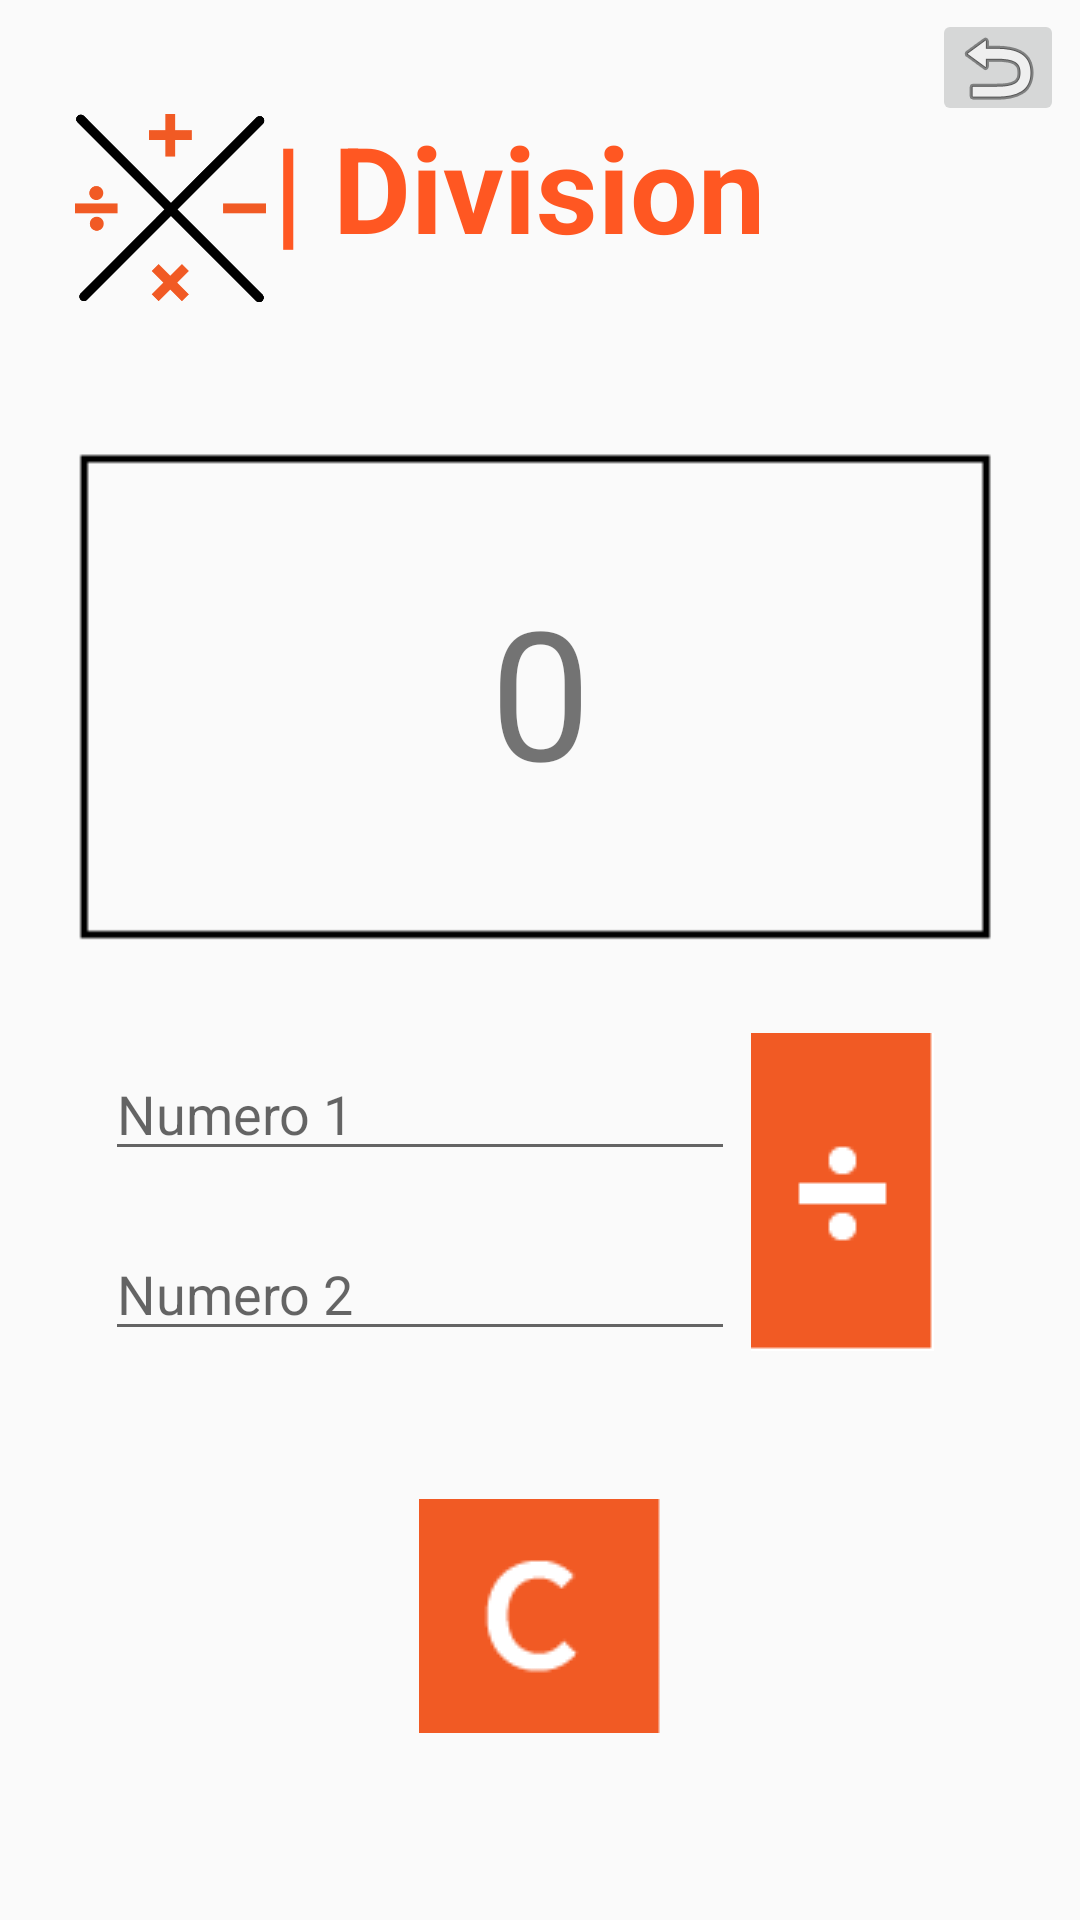

Point at icon controls on the screen. Image size 1080px x 1920px, points as (x=x, y=y).
borrado: (x=539, y=1616)
opr division: (x=841, y=1191)
revert: (x=998, y=67)
